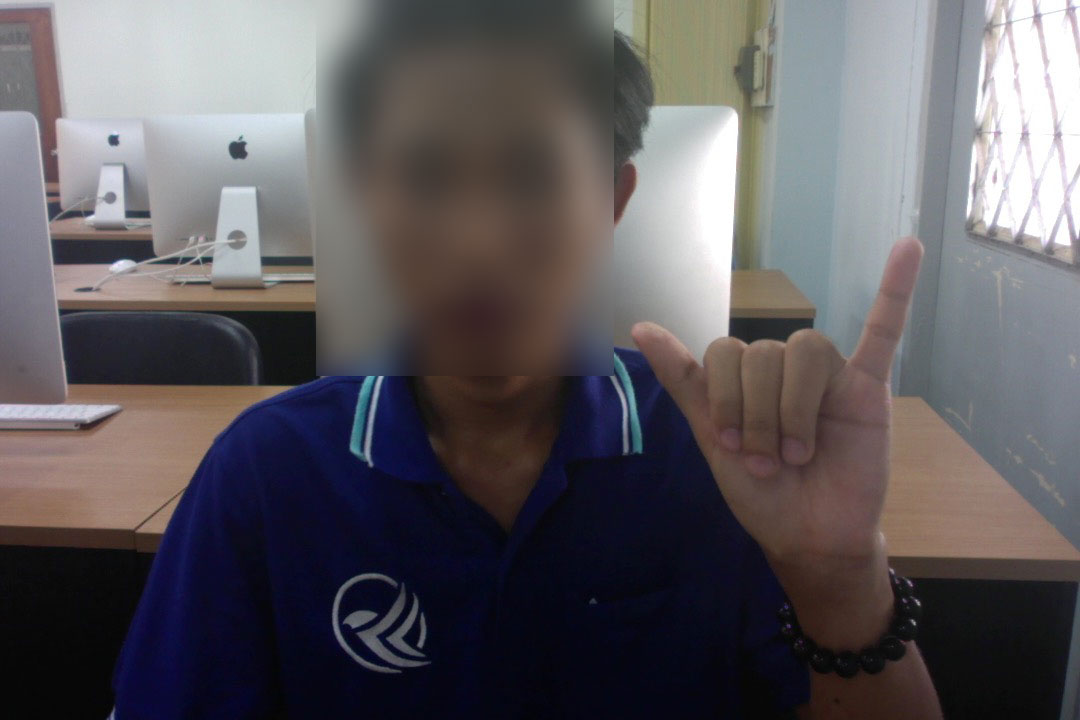yor: (620, 231, 939, 582)
